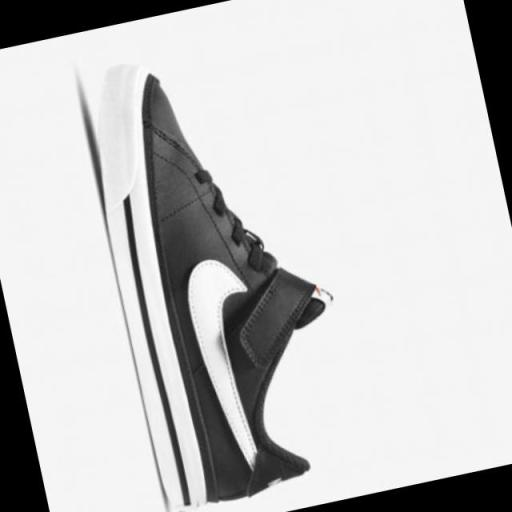Nike: (174, 245, 288, 486)
